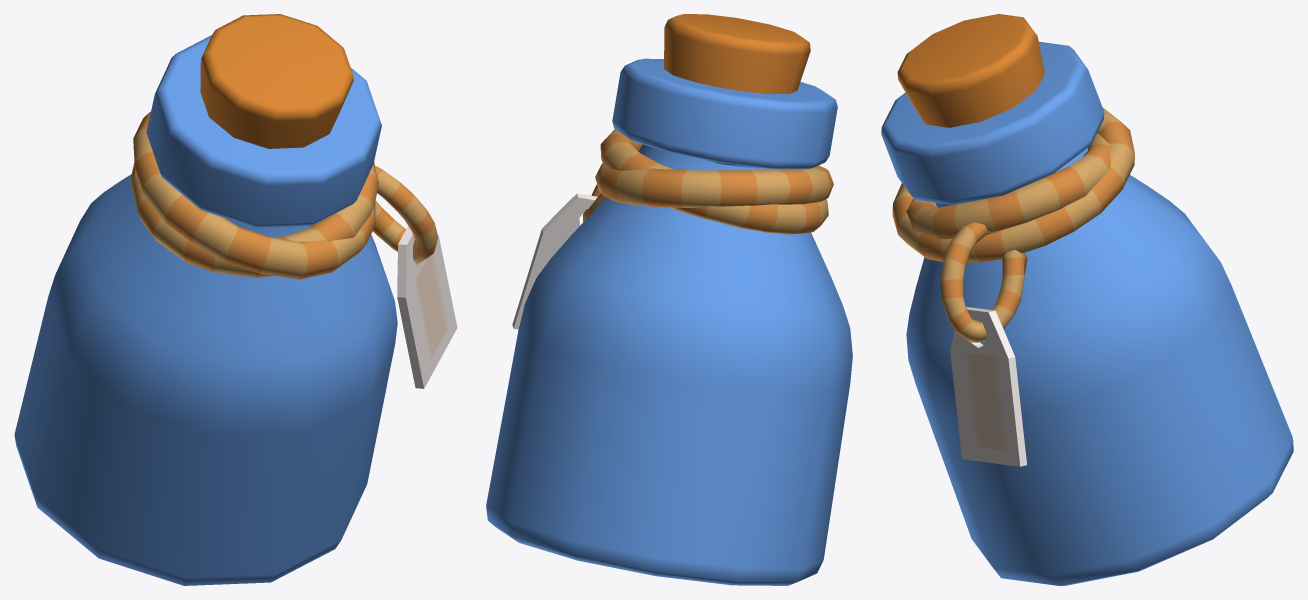
The picture shows the model from 3 angles, left to right: view 1: azimuth 30°, elevation 25°; view 2: azimuth 150°, elevation 25°; view 3: azimuth 270°, elevation 25°; orthographic projection. The views are drawn at different scales.
Visible parts, largest first — view 1: model_1.120; view 2: model_1.120; view 3: model_1.120.
Boxes of the visible parts, bbox=[...] form: model_1.120: bbox=[14, 14, 457, 585]; model_1.120: bbox=[486, 14, 852, 585]; model_1.120: bbox=[881, 14, 1293, 585].
Bounding box in the file's own units: 2.94 × 4.26 × 3.05.
